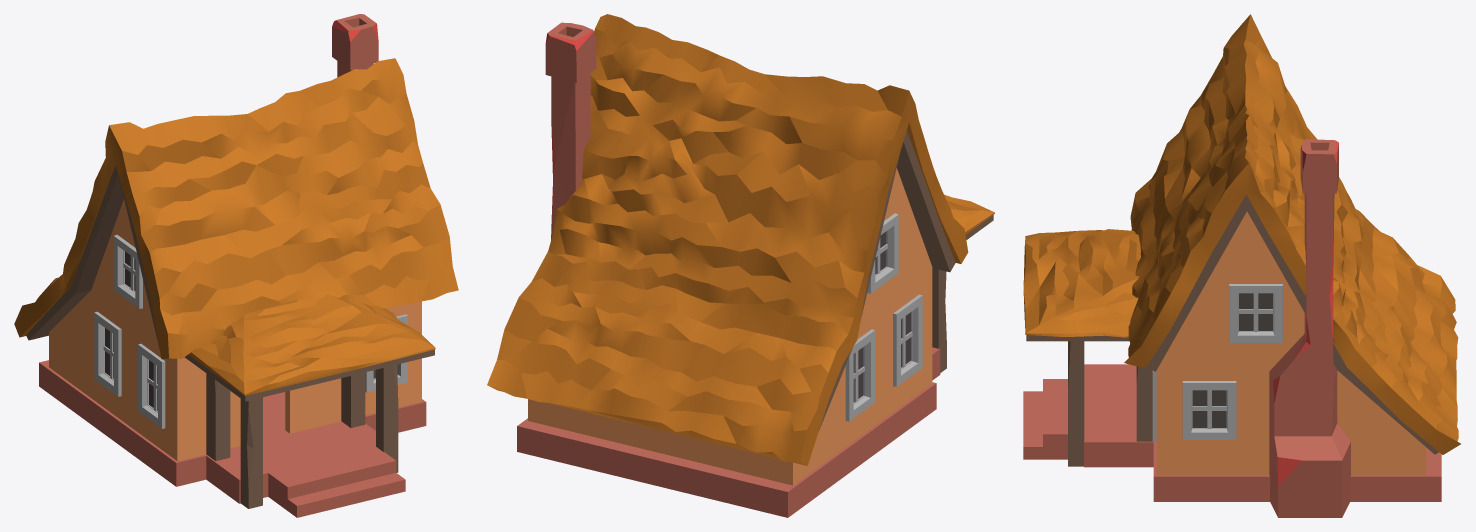
File: House_9.fbx
3 views of the same model, side by side, from view 1: azimuth 30°, elevation 25°; view 2: azimuth 150°, elevation 25°; view 3: azimuth 270°, elevation 25° (orthographic). The views are drawn at different scales.
Visible parts, largest first — view 1: House_9.001; view 2: House_9.001; view 3: House_9.001.
Boxes of the visible parts, left/top/right/bottom form: House_9.001: left=14, top=14, right=458, bottom=517; House_9.001: left=487, top=14, right=994, bottom=517; House_9.001: left=1023, top=14, right=1460, bottom=517.
Bounding box in the file's own units: 190 × 203 × 224.
